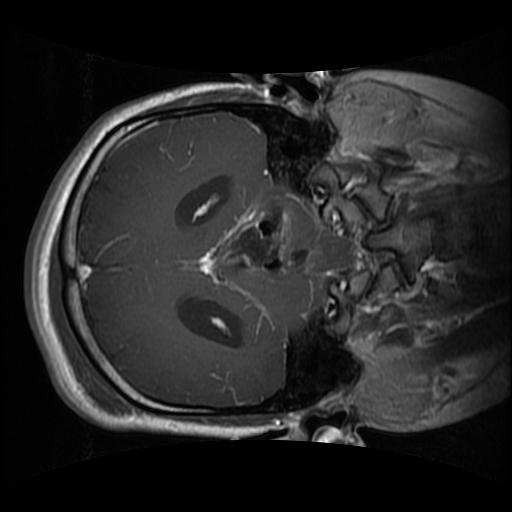glioma: (197, 196, 308, 289)
